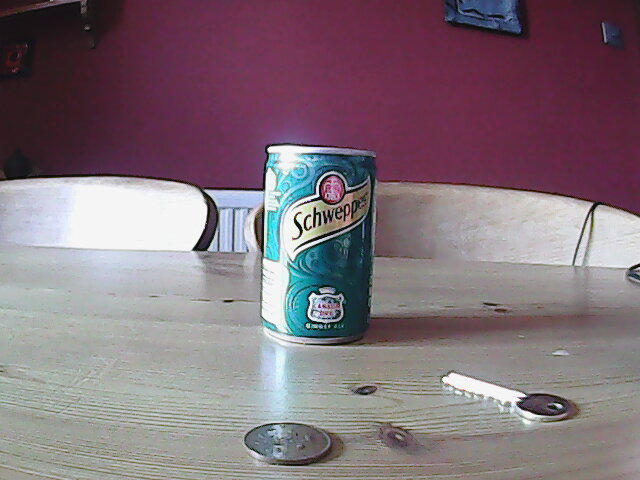Can: (253, 140, 377, 347)
Coin: (239, 422, 339, 472)
Key: (436, 368, 576, 425)
